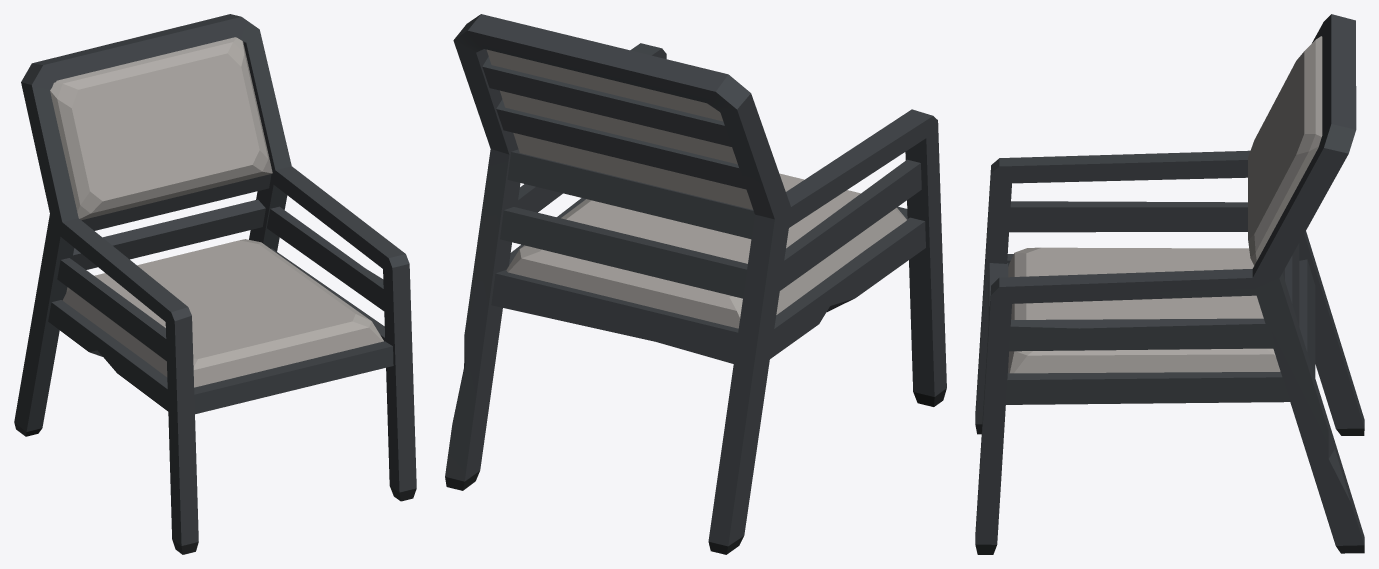
File: SM_Prop_Chair_02.obj
3 renders of one model, left to right at view 1: azimuth 30°, elevation 25°; view 2: azimuth 150°, elevation 25°; view 3: azimuth 270°, elevation 25°, orthographic. The views are drawn at different scales.
Parts seen in each view (by area): view 1: SM_Prop_Chair_02_0; view 2: SM_Prop_Chair_02_0; view 3: SM_Prop_Chair_02_0.
Part boxes in pixels (<box>): SM_Prop_Chair_02_0: <box>14,14,416,554</box>; SM_Prop_Chair_02_0: <box>445,14,946,554</box>; SM_Prop_Chair_02_0: <box>975,14,1364,554</box>.
Bounding box in the file's own units: 0.6226 × 0.9401 × 0.786.
Materials: 1 (1 with a texture image).
